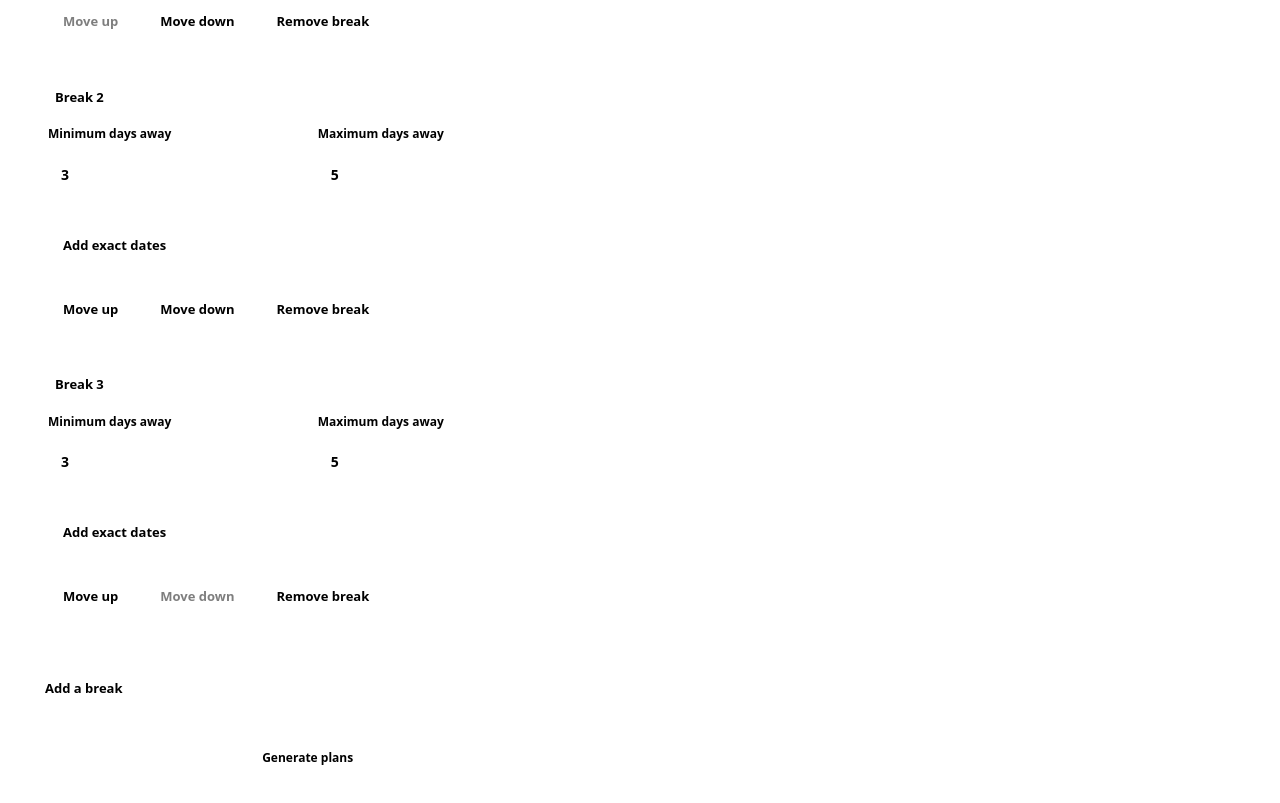
Scenario: reduced plans disclose omitted breaks without changing the requested mix
(page scrolled)
Click the button "Generate plans". click: (308, 758)
box: [30, 735, 585, 781]
(page scrolled)
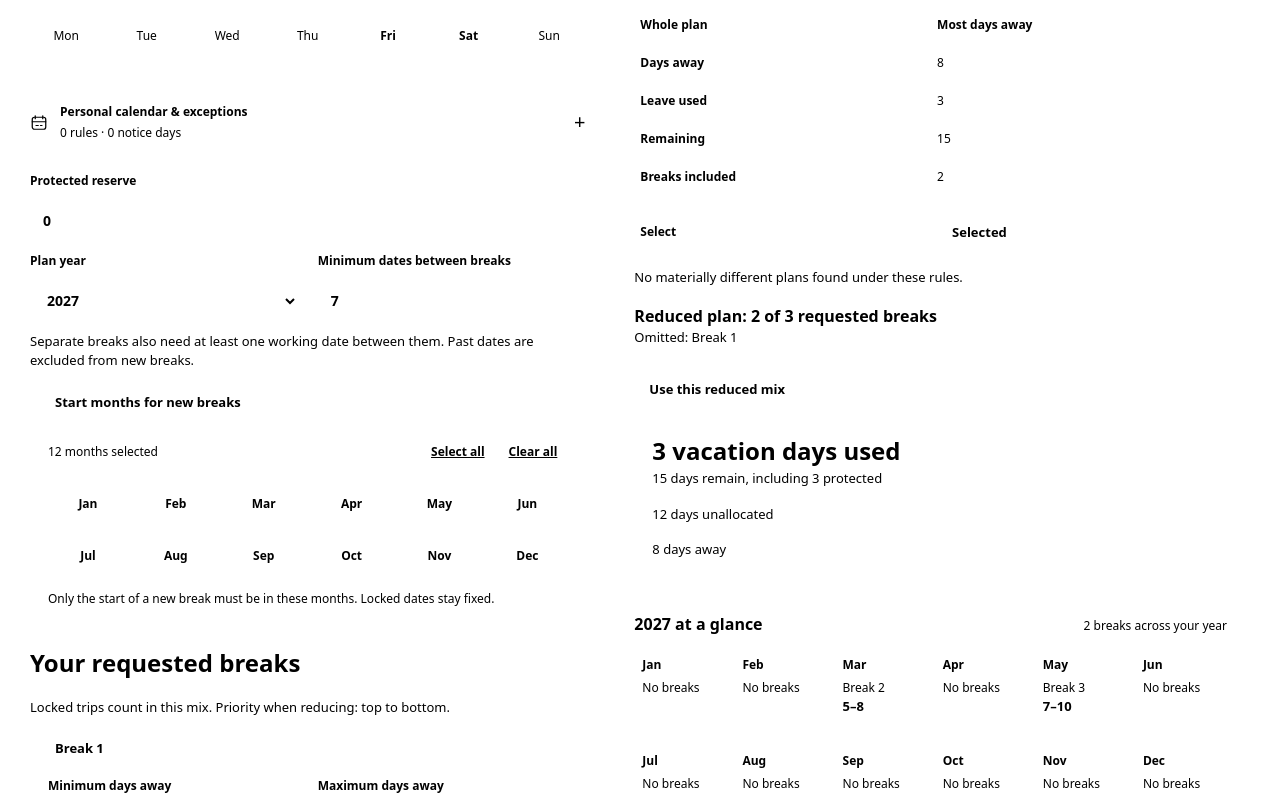
Check: the text "Reduced plan: 2 of 3 requested breaks" is shown, box [634, 305, 937, 327]
Check: the text "Omitted: Break 1" is shown, box [634, 328, 738, 346]
Click the button "Use this reduced mix". click: (717, 389)
box: [634, 367, 800, 411]
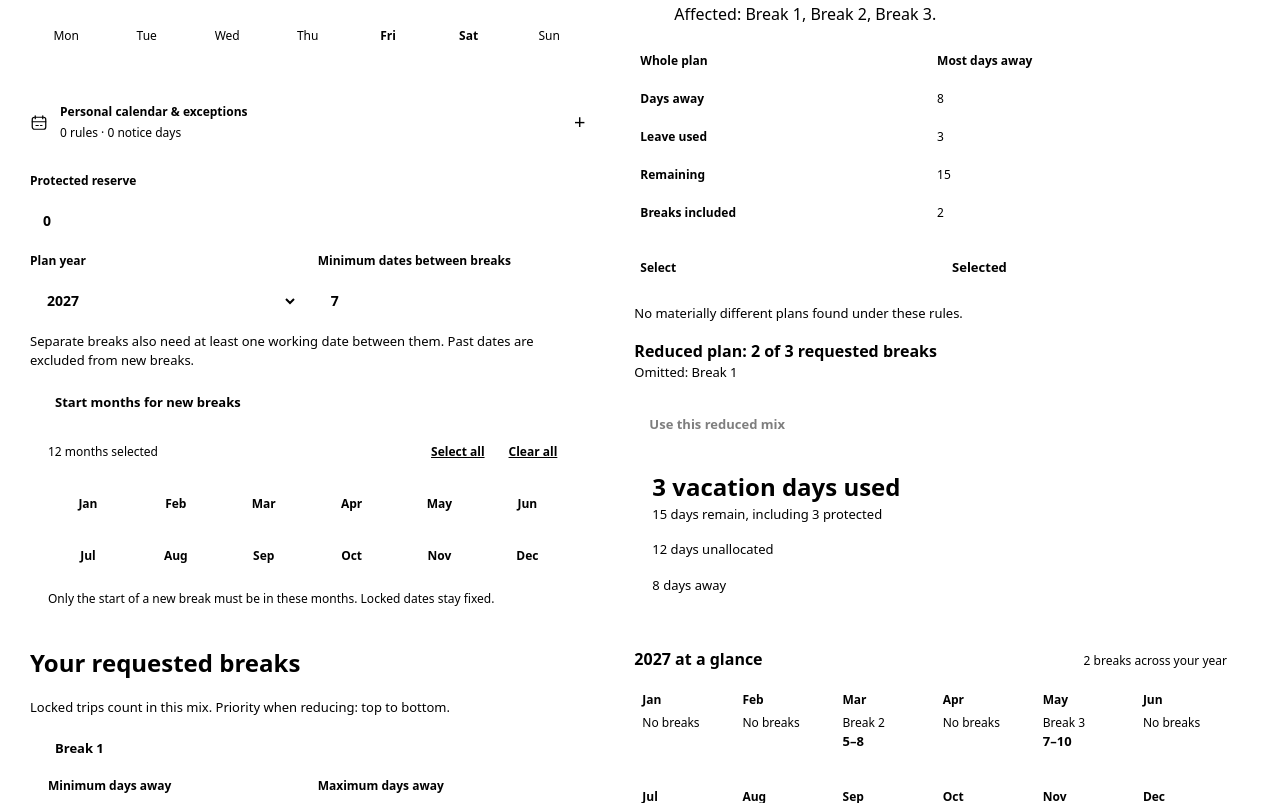
Check: the text "Omitted: Break 1" is shown, box [634, 363, 738, 381]
Check: the button "Use this reduced mix" is disabled, box [634, 403, 800, 447]
